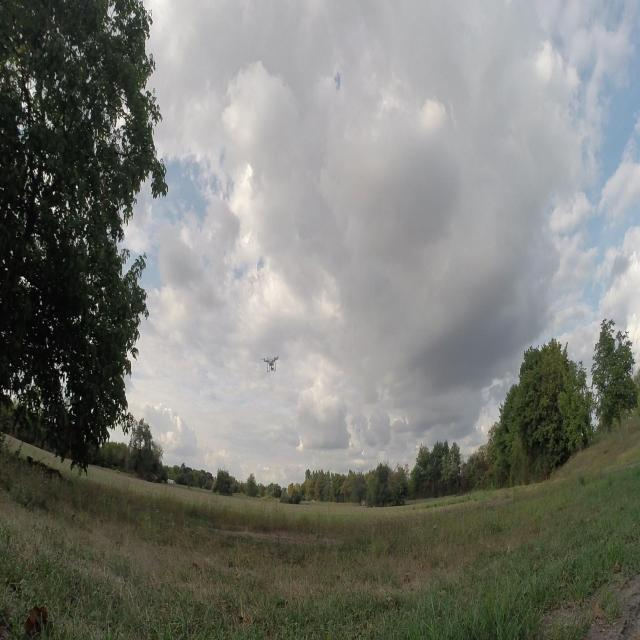drone: (260, 350, 282, 376)
